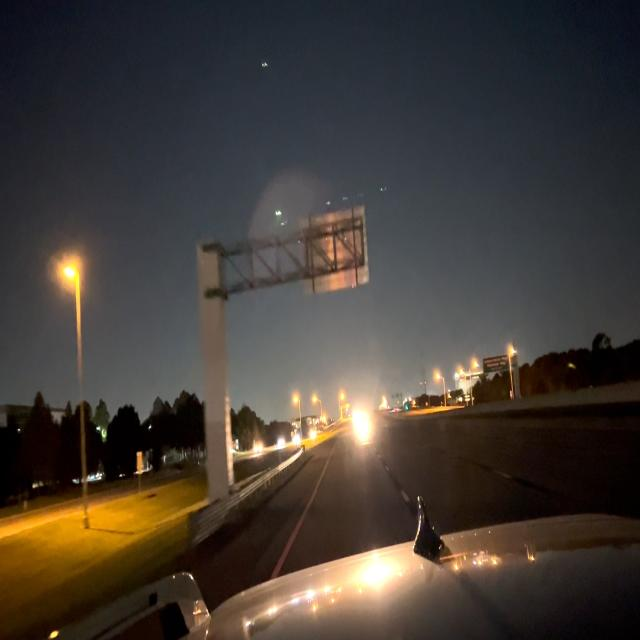back-of-sign: (301, 202, 373, 297)
